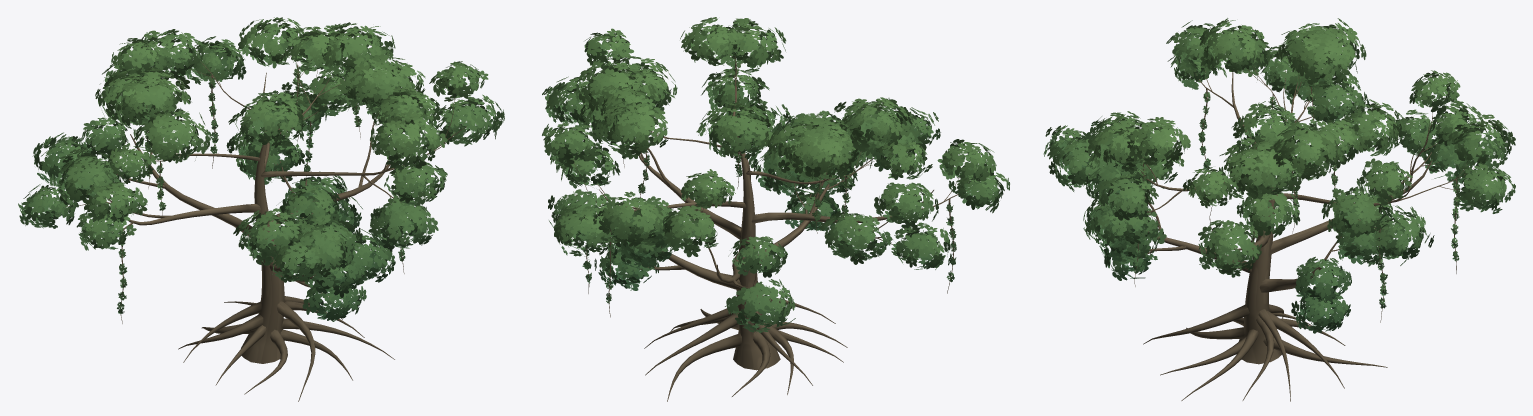
File: tree.gltf
3 renders of one model, left to right at view 1: azimuth 30°, elevation 25°; view 2: azimuth 150°, elevation 25°; view 3: azimuth 270°, elevation 25°, orthographic.
Visible parts, largest first — view 1: Tree_LOD0; view 2: Tree_LOD0; view 3: Tree_LOD0.
Boxes of the visible parts, x1,y1,x2,y2 form: Tree_LOD0: [18, 17, 504, 401]; Tree_LOD0: [542, 17, 1009, 401]; Tree_LOD0: [1043, 18, 1515, 401].
Size of the model in its own units: 22.88 by 13.98 by 21.
2 materials, 2 textured.
